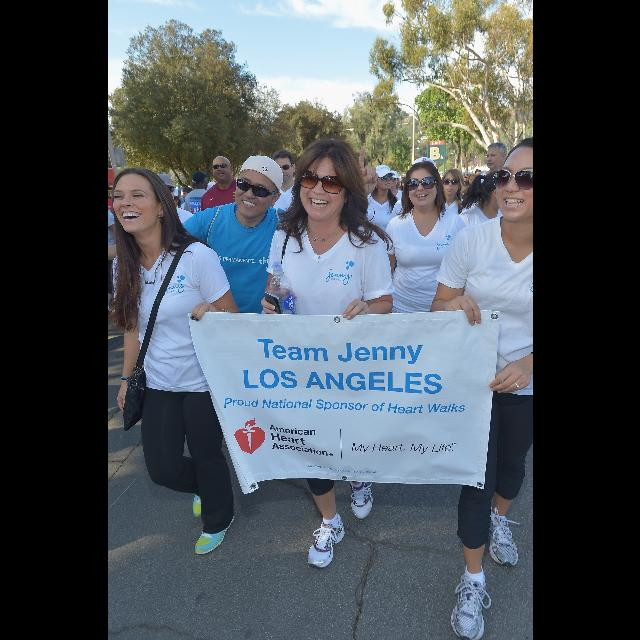head: (297, 140, 351, 222), (111, 168, 171, 234), (232, 154, 284, 220), (407, 164, 438, 208), (480, 170, 510, 210), (481, 171, 509, 209), (270, 150, 296, 182), (211, 156, 233, 182), (485, 142, 507, 168), (442, 169, 461, 195), (373, 166, 392, 190)
person: (107, 154, 333, 486), (259, 138, 396, 572), (107, 167, 241, 556), (378, 160, 468, 462), (452, 170, 522, 388), (253, 148, 311, 334), (472, 141, 520, 349), (198, 154, 258, 314), (356, 163, 408, 345), (430, 166, 478, 352)
